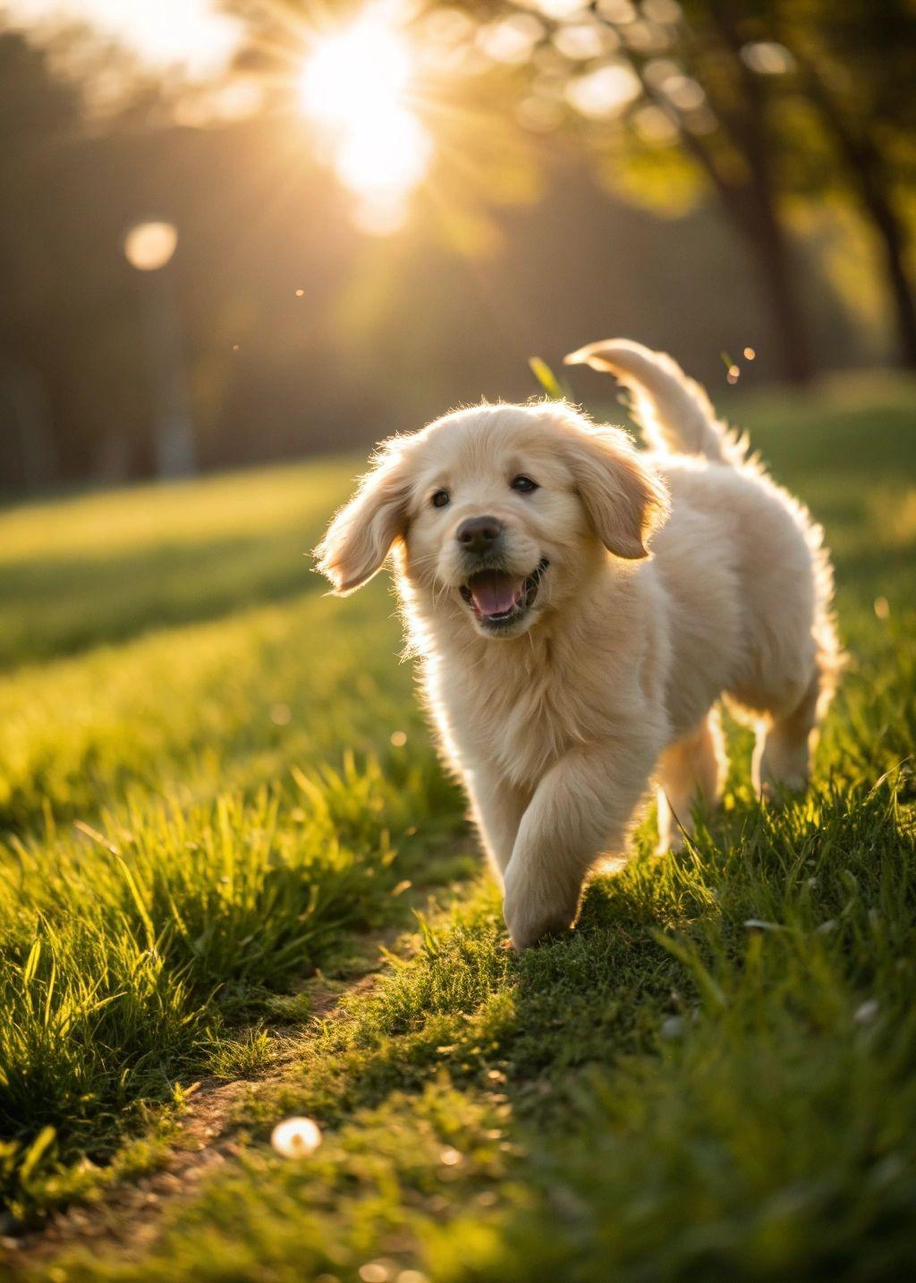puppy-dog: (312, 336, 847, 954)
